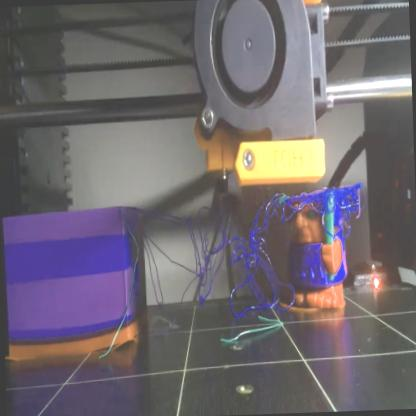fail: (141, 195, 294, 321), (292, 181, 370, 231)
